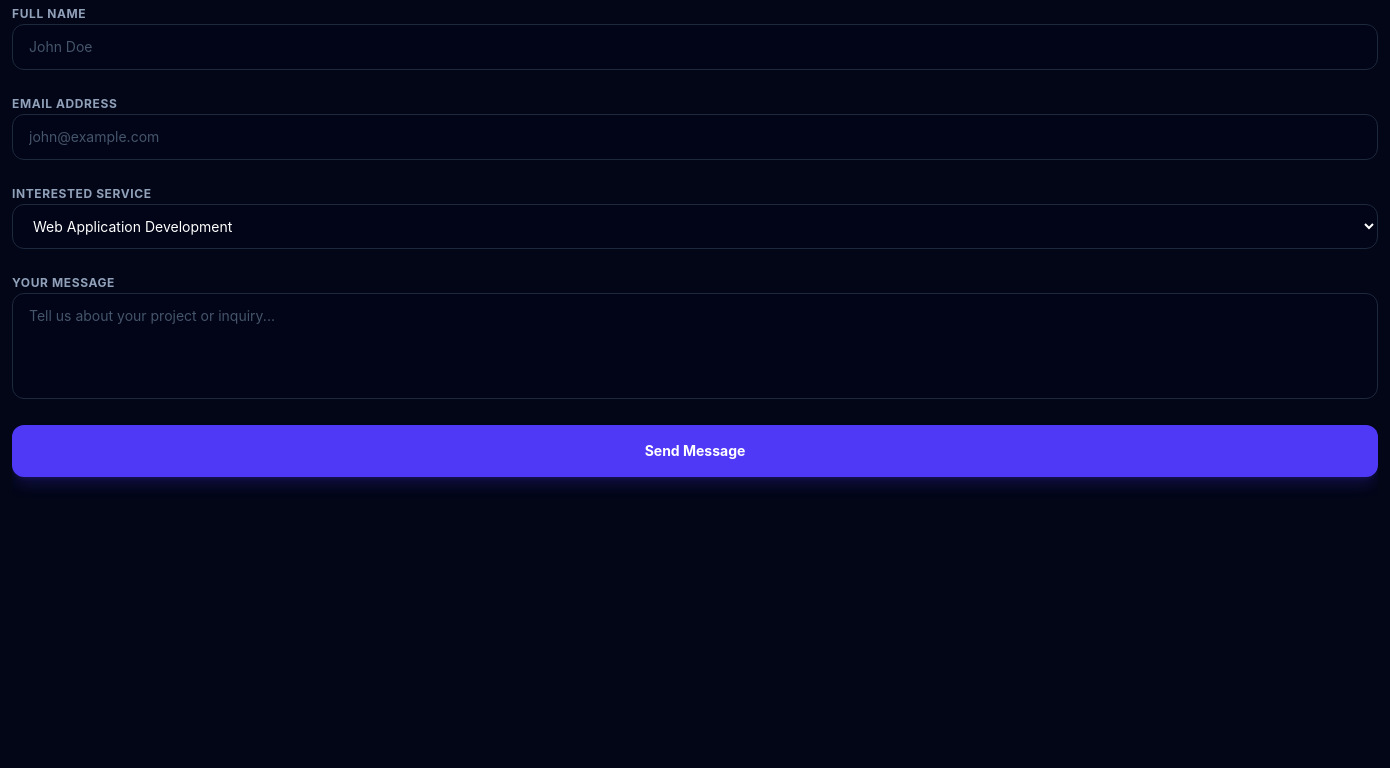
Scenario: ContactForm shows error on network failure
Type "Test User" into the field labelled "Full Name" at (695, 47), box [12, 24, 1378, 70]
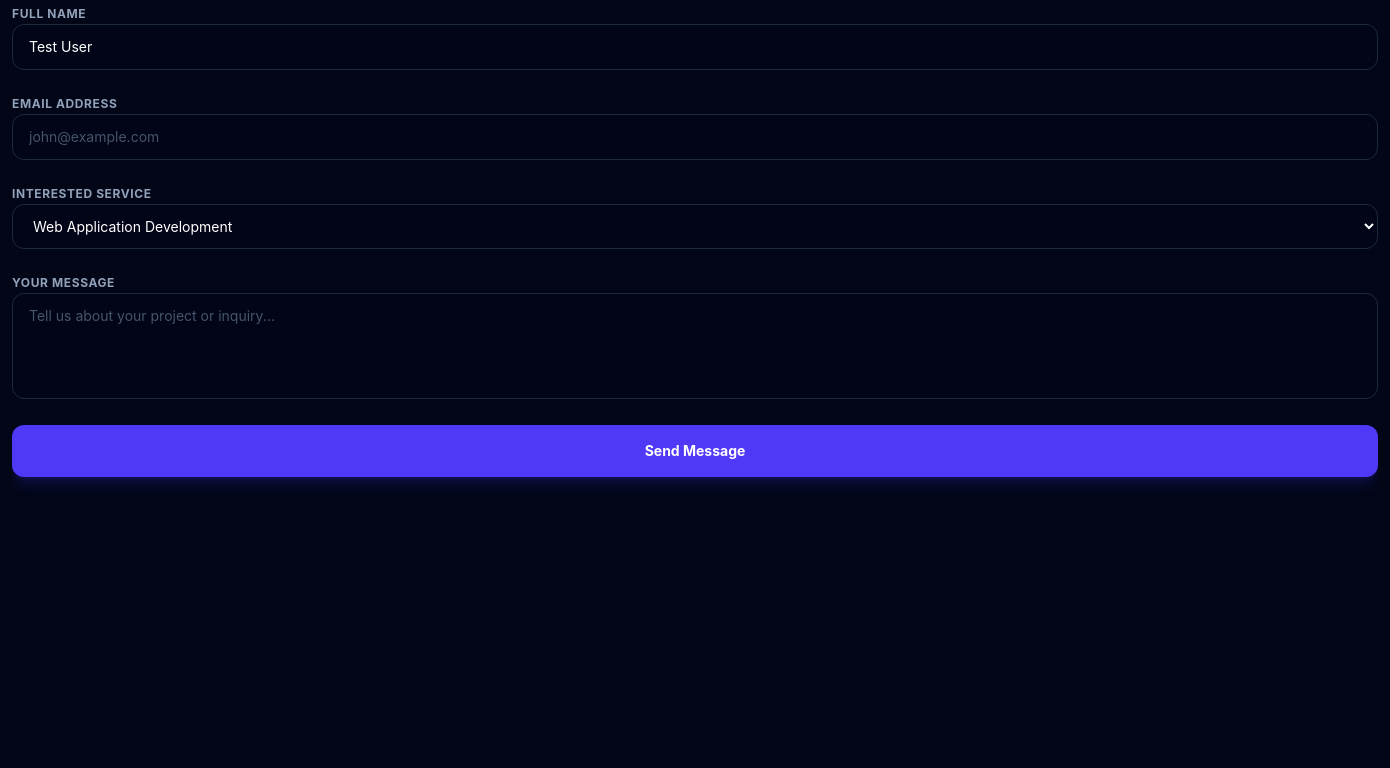
Type "test@example.com" into the field labelled "Email Address" at (695, 137), box [12, 114, 1378, 160]
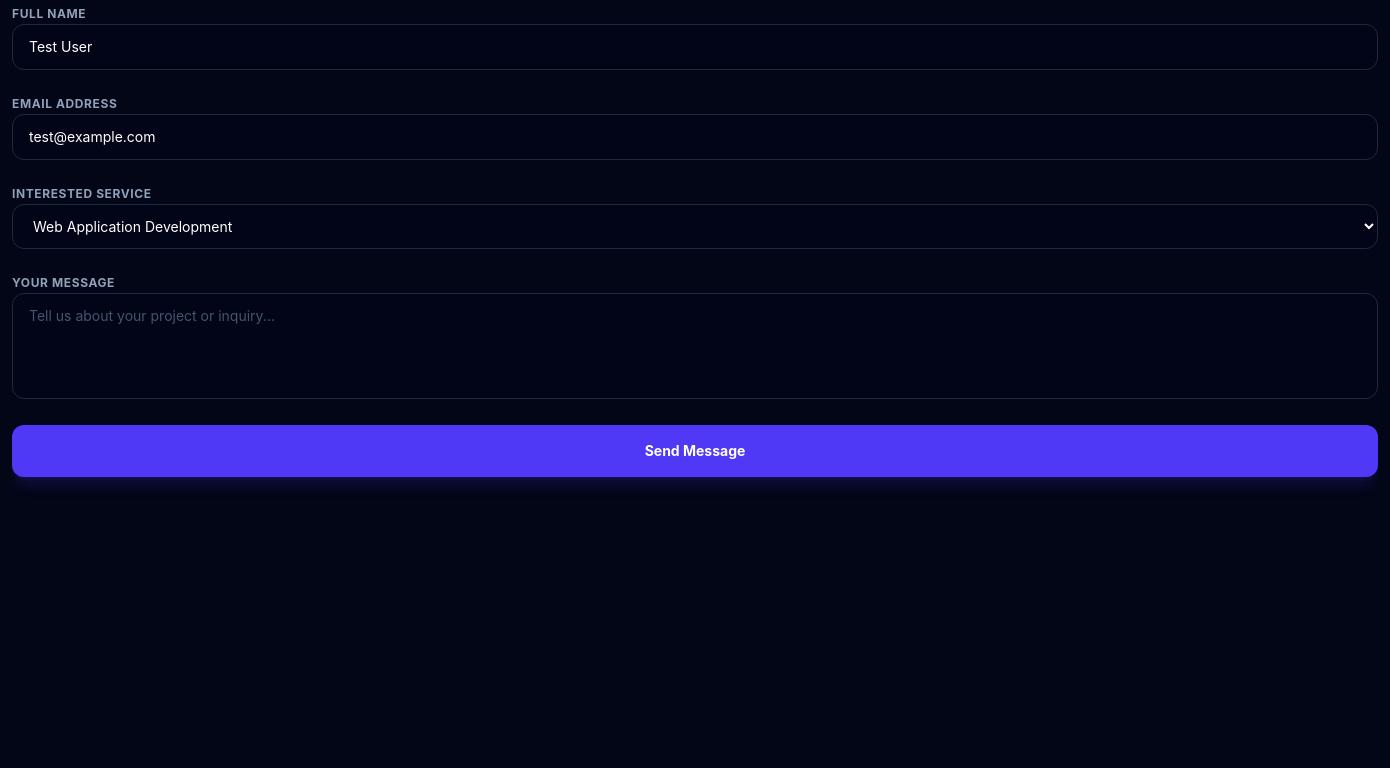
Type "Short Message" into the text box labelled "Your Message" at (695, 346), box [12, 293, 1378, 399]
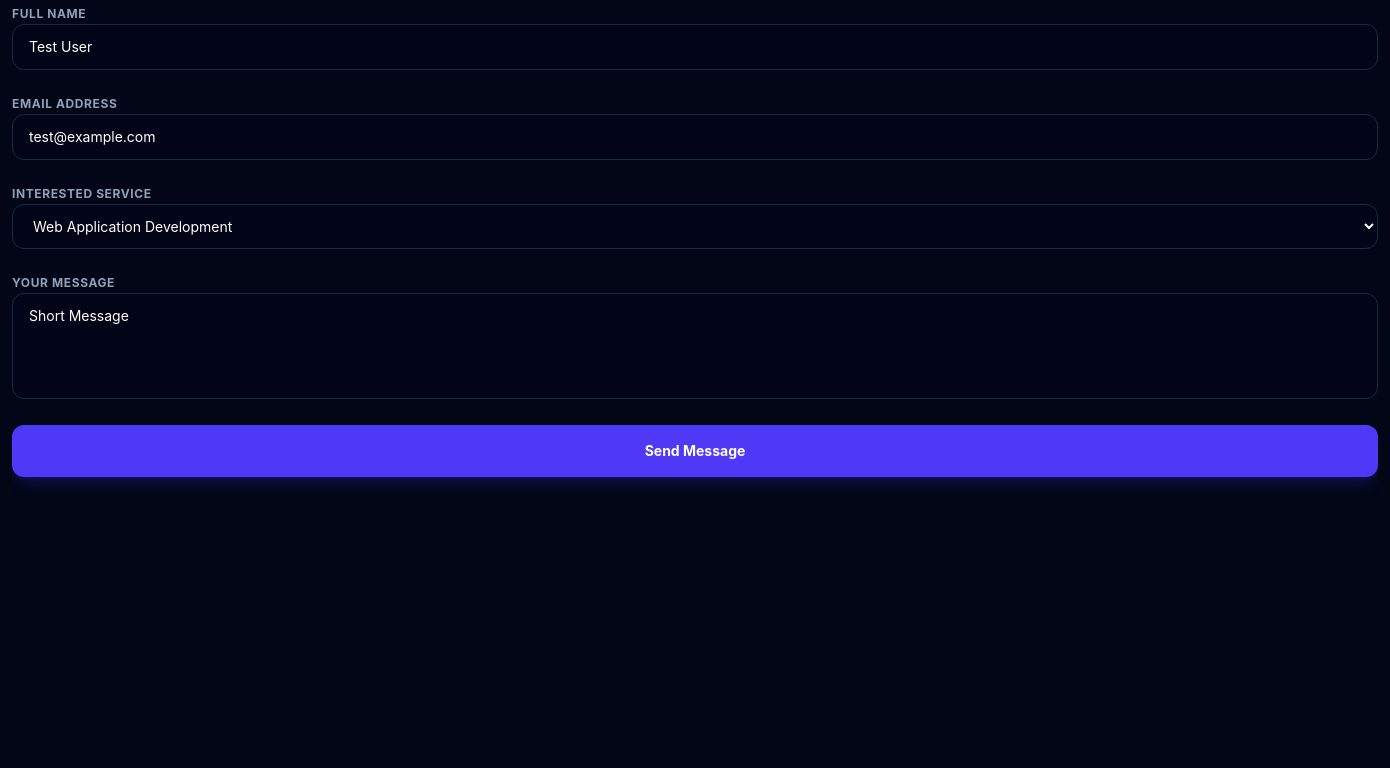
Click the button "Send Message" at (695, 451), box [12, 425, 1378, 477]
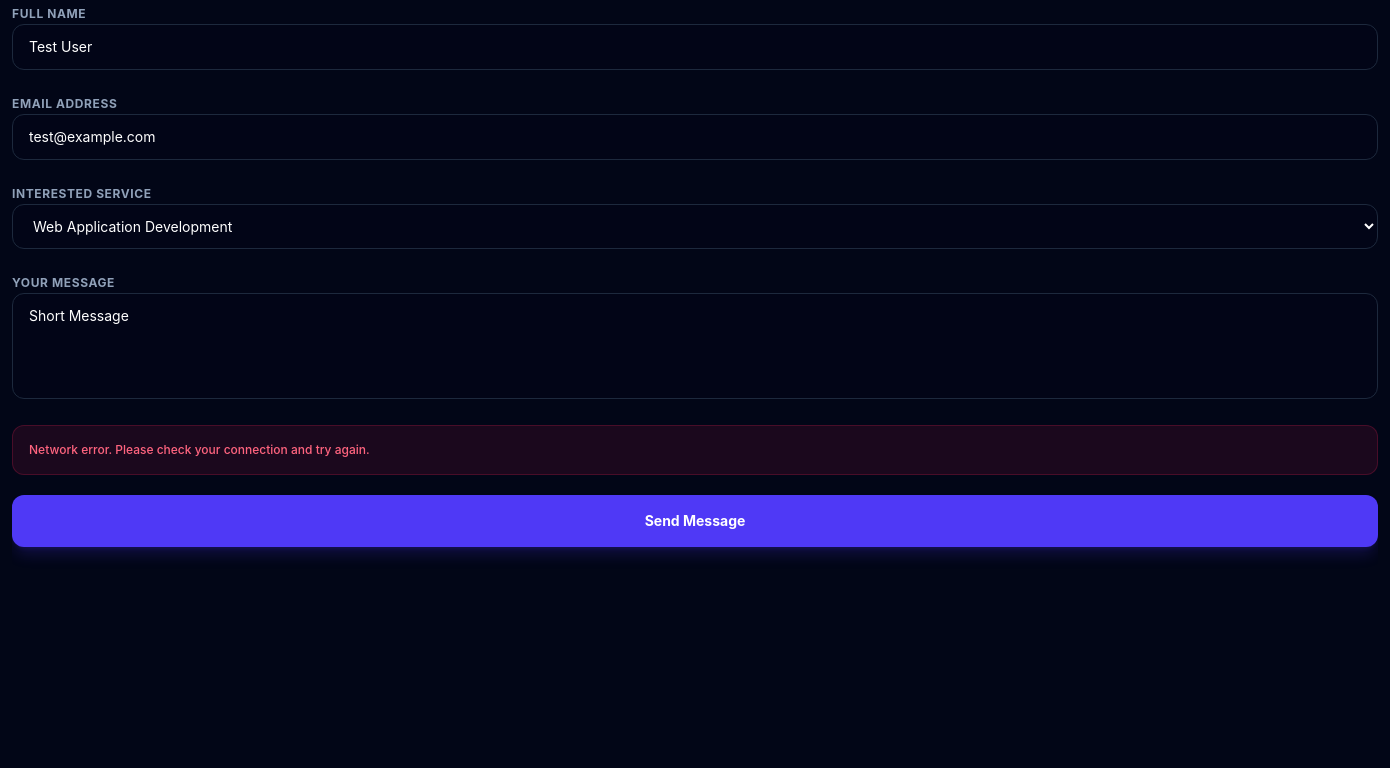
Result: the text "Network error. Please check your connection and try again." is shown at [12, 425, 1378, 475]
